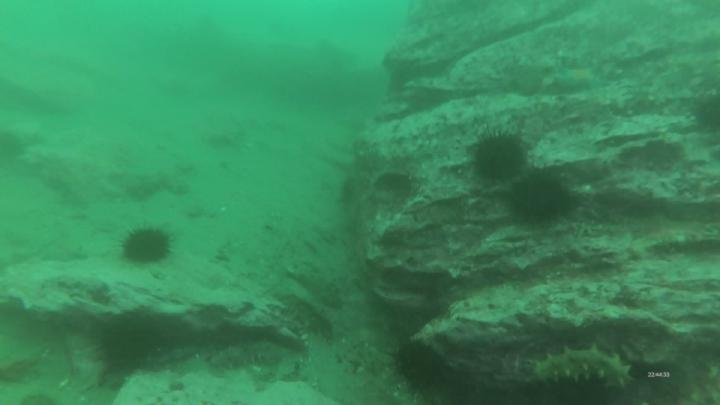echinus: (93, 321, 163, 380), (509, 170, 578, 227), (472, 128, 531, 188), (394, 338, 447, 389), (123, 222, 178, 269)
holothurian: (525, 344, 639, 392), (206, 336, 294, 372), (278, 290, 333, 339), (296, 270, 343, 310)
